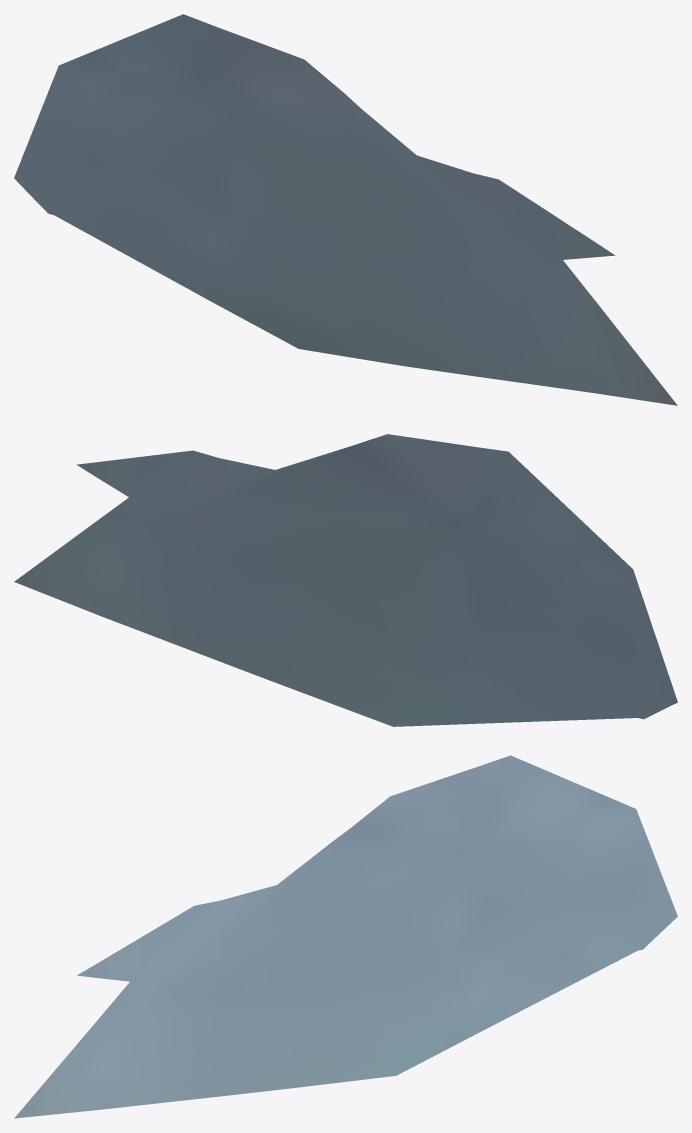
3 renders of one model, top to bottom at view 1: azimuth 30°, elevation 25°; view 2: azimuth 210°, elevation 25°; view 3: azimuth 270°, elevation 25°, orthographic. The views are drawn at different scales.
Parts seen in each view (by area): view 1: Tile_1.003; view 2: Tile_1.003; view 3: Tile_1.003.
Part boxes in pixels (x1=…): Tile_1.003: x1=14, y1=14, x2=677, y2=405; Tile_1.003: x1=14, y1=434, x2=677, y2=726; Tile_1.003: x1=14, y1=755, x2=677, y2=1118.
Size of the model in its own units: 1.85 by 1.68 by 3.45.
Materials: 1 (1 with a texture image).
